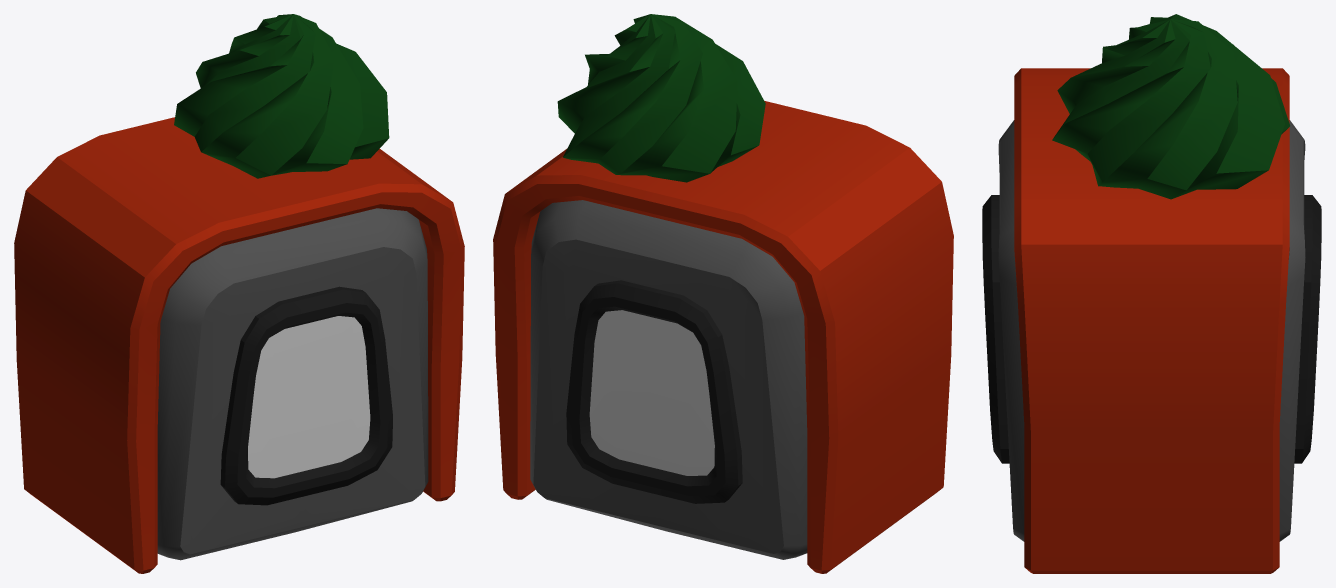
Rendered from Sushi_1.FBX.
3 views of the same model, side by side, from view 1: azimuth 30°, elevation 25°; view 2: azimuth 150°, elevation 25°; view 3: azimuth 270°, elevation 25° (orthographic). The views are drawn at different scales.
Parts seen in each view (by area): view 1: Sushi_1; view 2: Sushi_1; view 3: Sushi_1.
Boxes of the visible parts, x1,y1,x2,y2 form: Sushi_1: (14,14,464,573); Sushi_1: (493,14,953,573); Sushi_1: (982,14,1321,573).
Bounding box in the file's own units: 997 × 797 × 1311.
